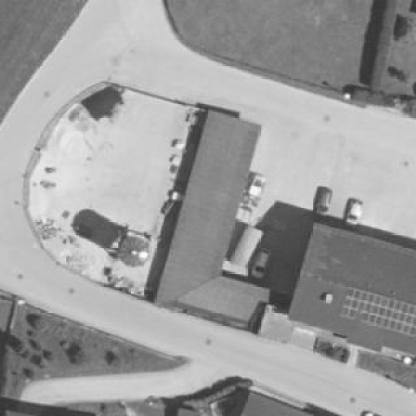solar-pv-panel: (340, 286, 416, 337)
